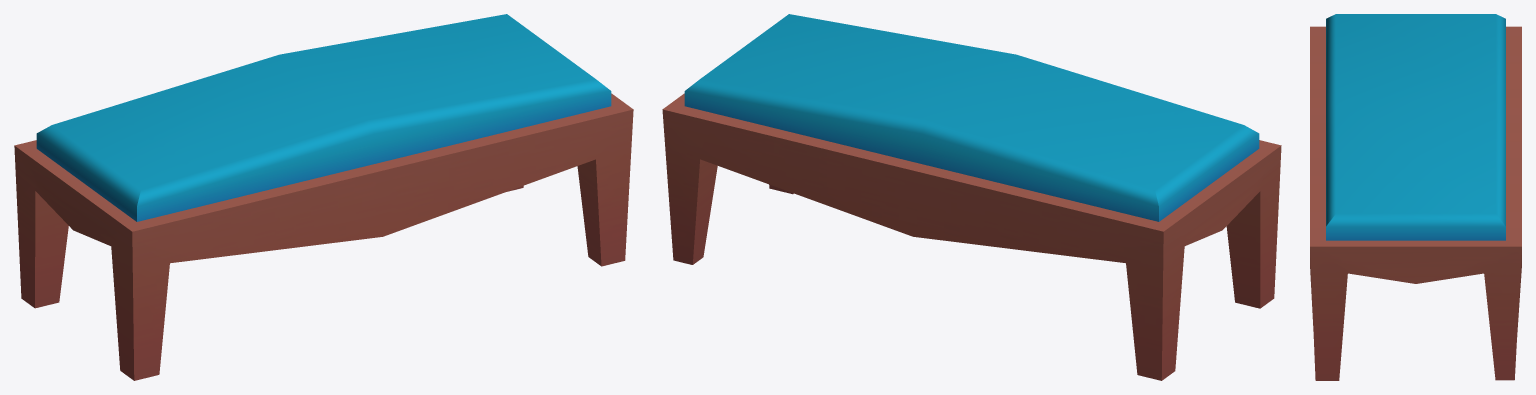
The model's file is SM_Bench_Bedroom_1_03.fbx.
3 views of the same model, side by side, from view 1: azimuth 30°, elevation 25°; view 2: azimuth 150°, elevation 25°; view 3: azimuth 270°, elevation 25° (orthographic). The views are drawn at different scales.
Visible parts, largest first — view 1: SM_Bench_Bedroom_1_03; view 2: SM_Bench_Bedroom_1_03; view 3: SM_Bench_Bedroom_1_03.
Boxes of the visible parts, box(x1,y1,x2,y2) form: SM_Bench_Bedroom_1_03: box(14, 14, 633, 380); SM_Bench_Bedroom_1_03: box(662, 14, 1281, 380); SM_Bench_Bedroom_1_03: box(1310, 14, 1521, 380).
Bounding box in the file's own units: 161 × 58.95 × 65.44.
